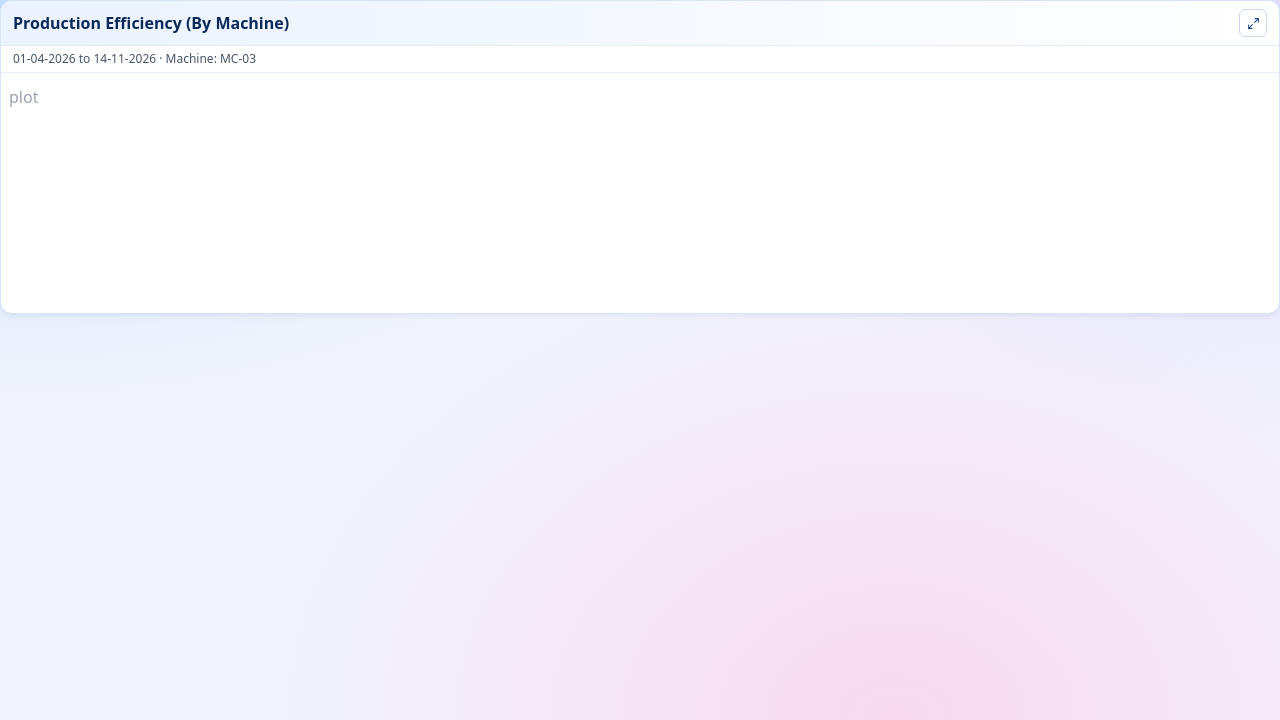
Test case: Export › menu: PNG and Excel, styled like the table Export button
The image size is (1280, 720).
Click the button named "Expand chart" at coordinates (1253, 23), box top-left (1239, 9), bottom-right (1267, 37)
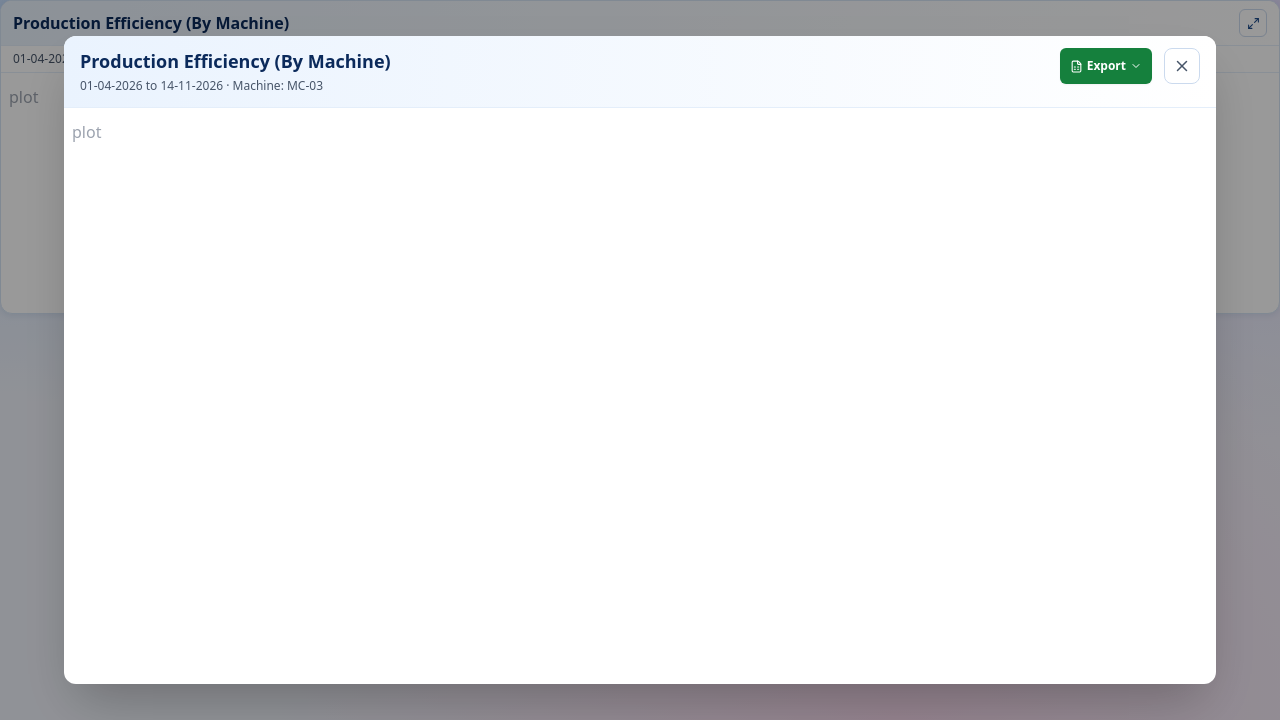
Click the button "Export" at coordinates (1106, 66), box top-left (1060, 48), bottom-right (1152, 84)
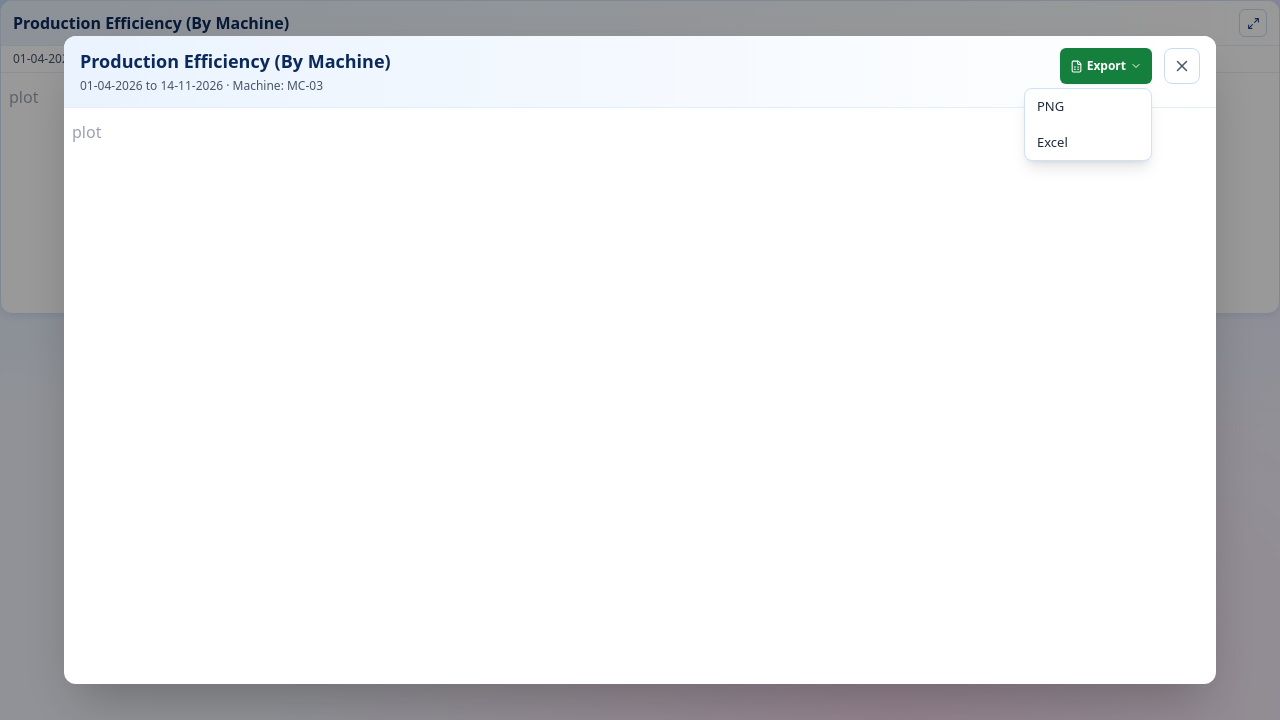
Expected: the menu items read "PNG", "Excel", in this order, top-left (1025, 89), bottom-right (1151, 124); top-left (1025, 124), bottom-right (1151, 160)
